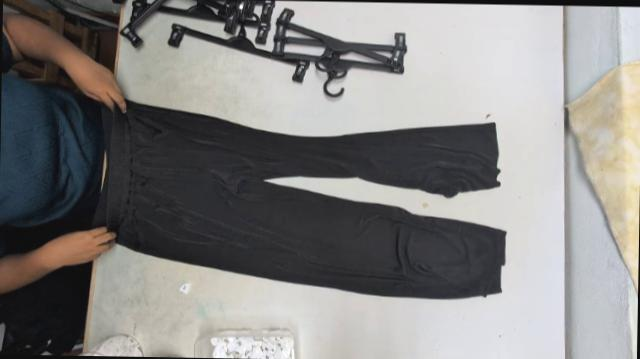new-garment: (105, 101, 504, 298)
